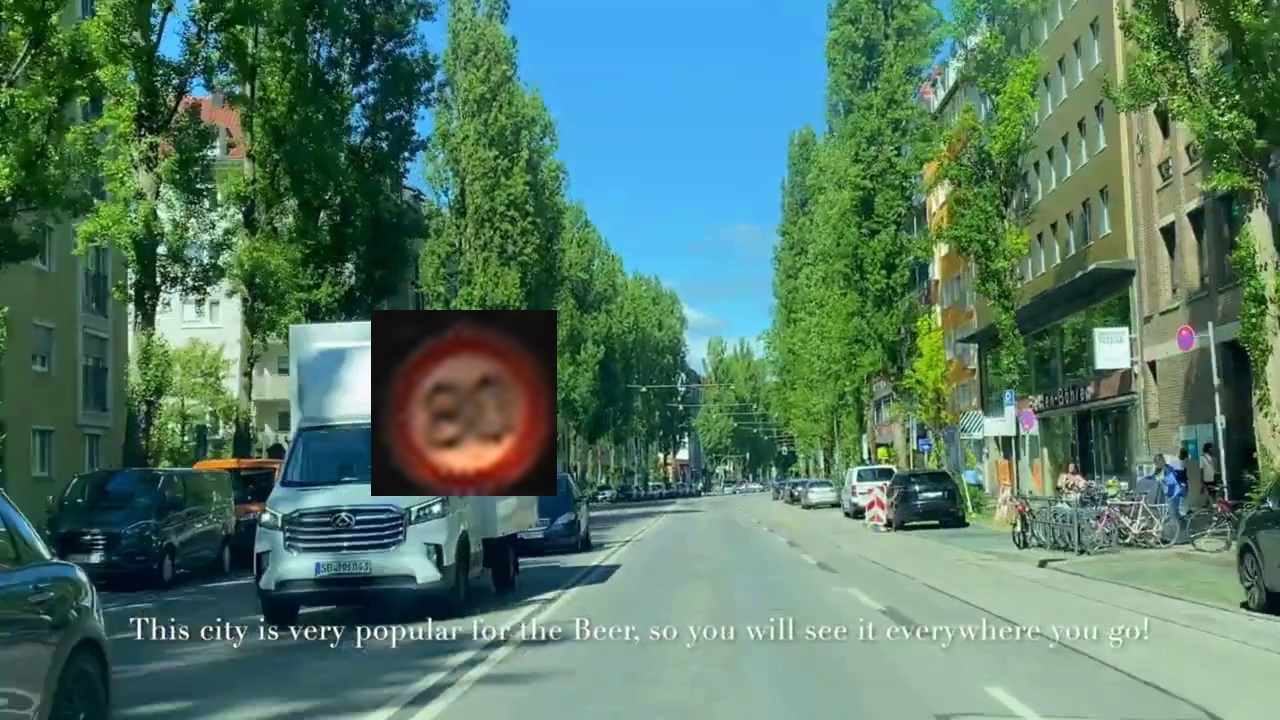Speed 80: (371, 310, 557, 496)
